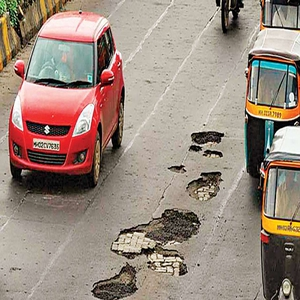pothole: (106, 210, 202, 277), (96, 266, 139, 300), (185, 172, 224, 202), (191, 132, 225, 146)
